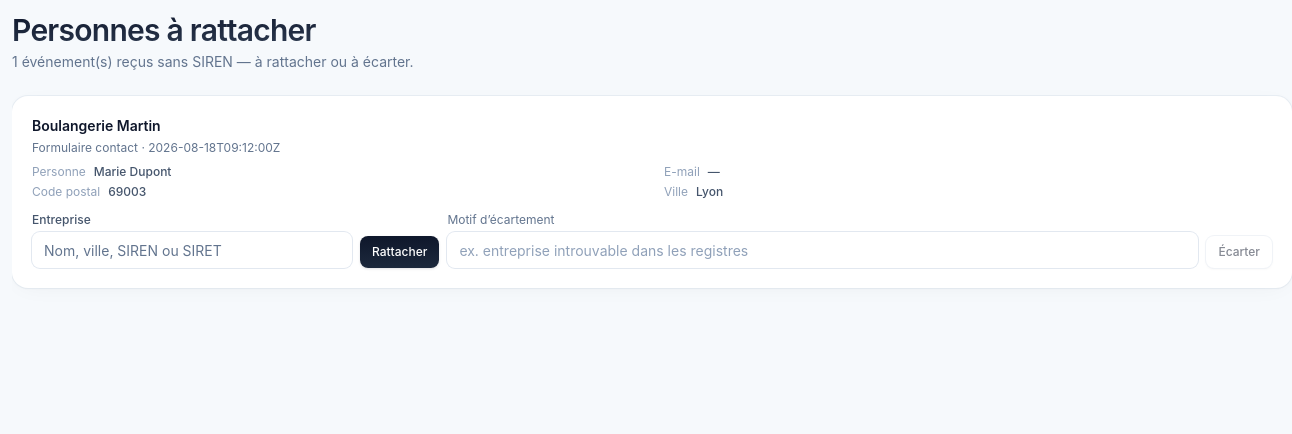
Test: ChoixEntreprise — rattacher en cherchant l’entreprise › suggestions : à l’ouverture du champ vide, le nom et le code postal reçus sont proposés
Click the dropdown labelled "Entreprise". click: coordinates (192, 250)
box: [32,232,352,268]
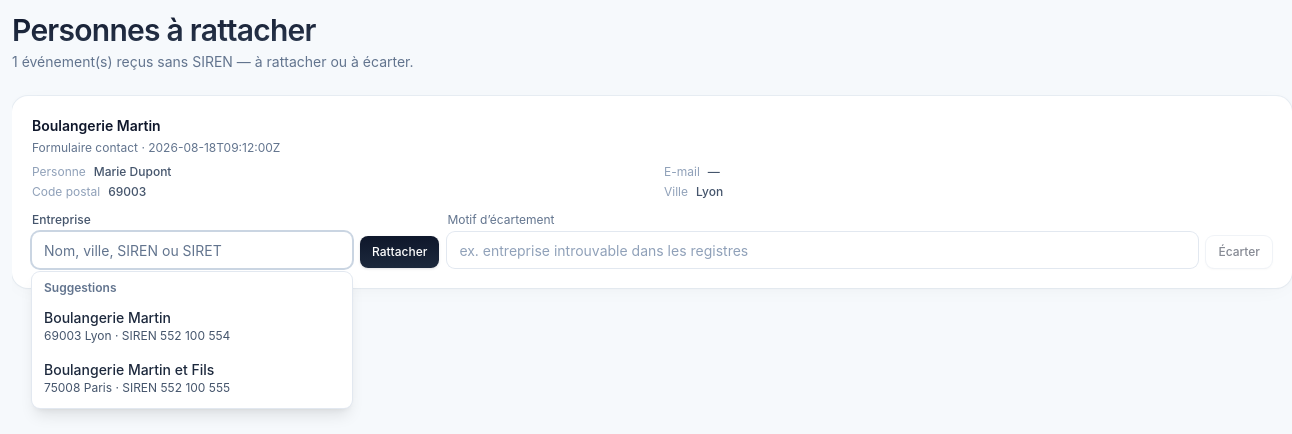
Expected: the 1st text "Boulangerie Martin" is shown, [32,117,161,134]
Expected: the text "Suggestions" is shown, [44,280,116,295]
Expected: the number of options is 2, [44,309,230,343]; [44,361,230,395]
